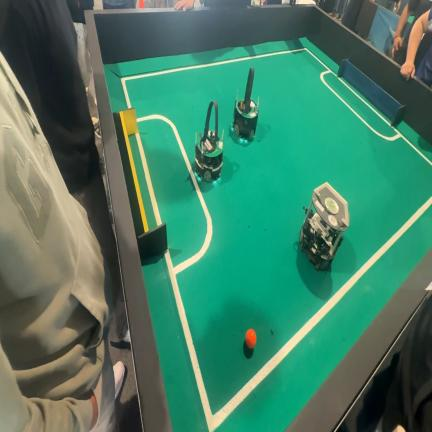cancha: (104, 38, 432, 432)
limites: (137, 114, 432, 432), (121, 48, 432, 166), (135, 131, 161, 225)
pelota: (246, 329, 256, 349)
porteria: (113, 108, 168, 260), (337, 59, 406, 127)
robot: (299, 182, 349, 270), (195, 101, 223, 182), (232, 68, 259, 141)
